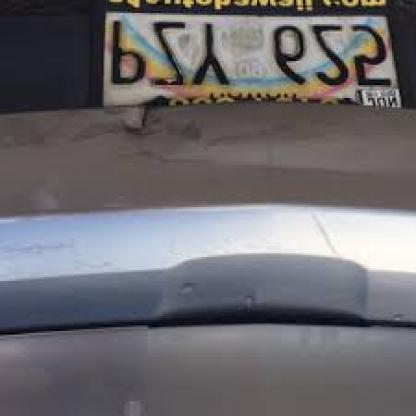dent: (114, 111, 172, 137)
